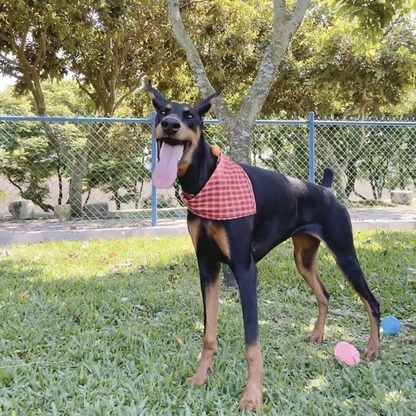doberman: (138, 84, 387, 408)
